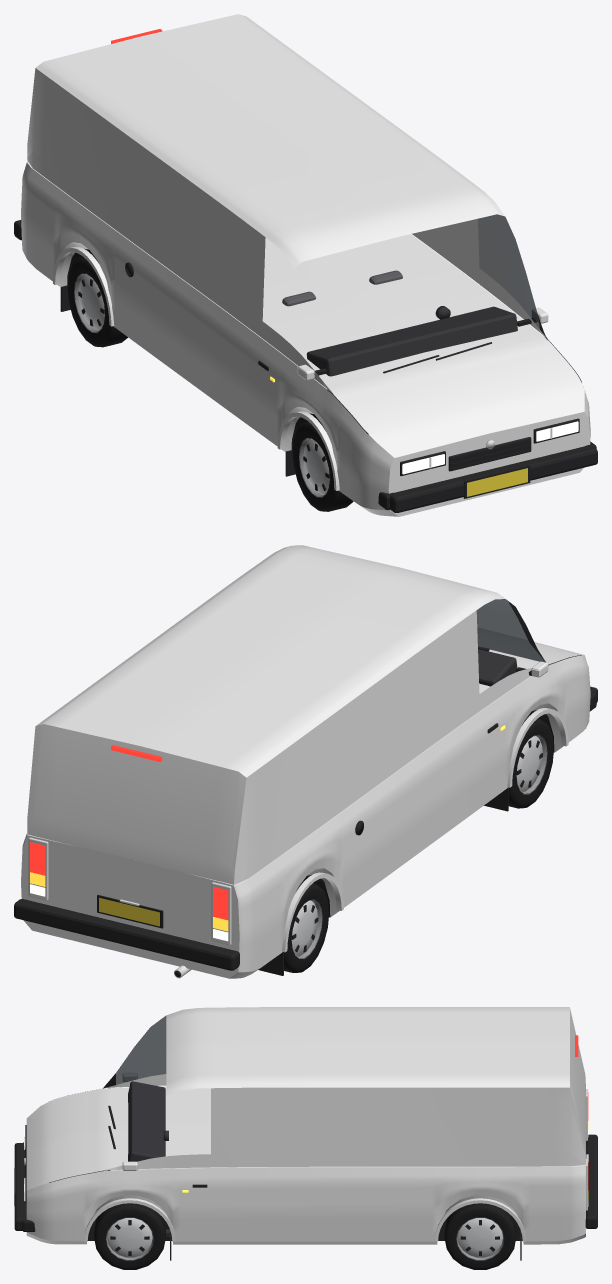
Rendered from tr_van.glb.
3 renders of one model, top to bottom at view 1: azimuth 30°, elevation 25°; view 2: azimuth 150°, elevation 25°; view 3: azimuth 270°, elevation 25°, orthographic. The views are drawn at different scales.
Parts seen in each view (by area): view 1: cabin_roof, tub, quarter_R, nose, hood, cabin_seal, dash, door_R, bumper_front, cabin_glass, fender_R, wheel_FR (+5 smaller); view 2: cabin_roof, quarter_R, tail, cabin_seal, bumper_rear, door_R, fender_R, wheel_FR, wheel_RR, cabin_glass, hood, dash (+4 smaller); view 3: cabin_roof, quarter_L, cabin_seal, hood, tub, door_L, wheel_FL, wheel_RL, fender_L, nose, dash, cabin_glass (+5 smaller).
Boxes of the visible parts, x1=… form: cabin_roof: x1=27, y1=14, x2=504, y2=320; tub: x1=32, y1=168, x2=543, y2=389; quarter_R: x1=26, y1=168, x2=261, y2=431; nose: x1=363, y1=383, x2=590, y2=516; hood: x1=330, y1=337, x2=581, y2=434; cabin_seal: x1=27, y1=152, x2=548, y2=393; dash: x1=306, y1=306, x2=517, y2=376; door_R: x1=256, y1=339, x2=326, y2=451; bumper_front: x1=390, y1=445, x2=597, y2=512; cabin_glass: x1=478, y1=214, x2=539, y2=329; fender_R: x1=321, y1=390, x2=372, y2=513; wheel_FR: x1=292, y1=419, x2=353, y2=511; cabin_roof: x1=27, y1=545, x2=504, y2=884; quarter_R: x1=243, y1=712, x2=485, y2=977; tail: x1=21, y1=833, x2=253, y2=978; cabin_seal: x1=234, y1=664, x2=548, y2=884; bumper_rear: x1=14, y1=899, x2=239, y2=970; door_R: x1=480, y1=673, x2=549, y2=804; fender_R: x1=542, y1=655, x2=587, y2=752; wheel_FR: x1=508, y1=716, x2=553, y2=808; wheel_RR: x1=284, y1=881, x2=329, y2=972; cabin_glass: x1=476, y1=599, x2=545, y2=662; hood: x1=477, y1=629, x2=579, y2=665; dash: x1=478, y1=649, x2=517, y2=686; cabin_roof: x1=166, y1=1007, x2=585, y2=1163; quarter_L: x1=211, y1=1167, x2=571, y2=1244; cabin_seal: x1=102, y1=1074, x2=585, y2=1170; hood: x1=49, y1=1088, x2=110, y2=1182; tub: x1=110, y1=1086, x2=571, y2=1170; door_L: x1=110, y1=1168, x2=210, y2=1244; wheel_FL: x1=94, y1=1203, x2=165, y2=1269; wheel_RL: x1=444, y1=1203, x2=516, y2=1269; fender_L: x1=49, y1=1171, x2=110, y2=1244; nose: x1=26, y1=1102, x2=48, y2=1243; dash: x1=128, y1=1081, x2=165, y2=1161; cabin_glass: x1=116, y1=1016, x2=166, y2=1084.
Size of the model in its own units: 2.07 by 1.95 by 5.53.
